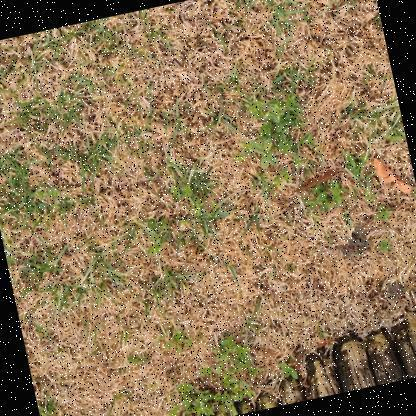Weeds: (219, 85, 327, 204), (150, 329, 271, 415), (128, 159, 221, 265), (294, 151, 378, 221), (370, 202, 395, 227), (276, 358, 301, 380)
